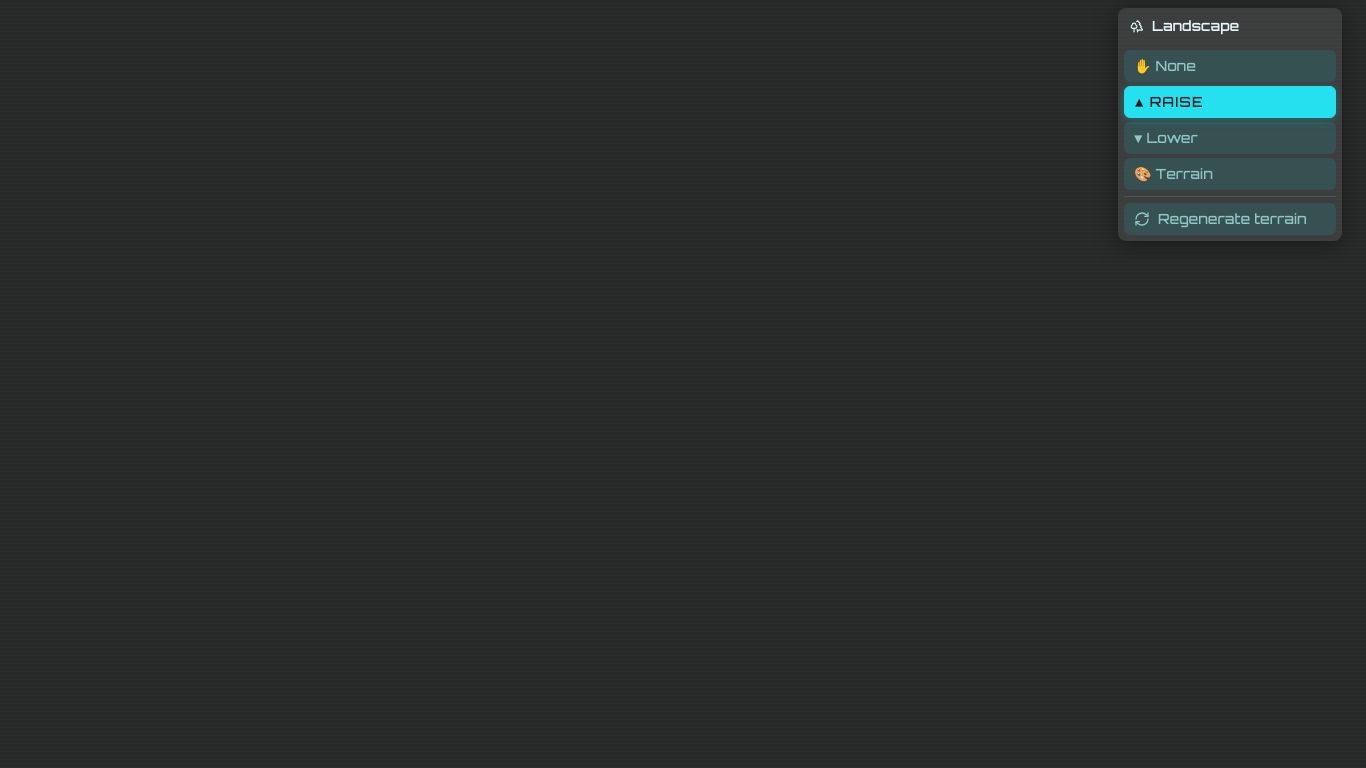
Test case: EditorPanel (LandscapeEditor replacement) › renders regenerate terrain button in floating view and handles errors in popup
Click the button "Regenerate terrain" at (1230, 219), box [1124,203,1336,235]
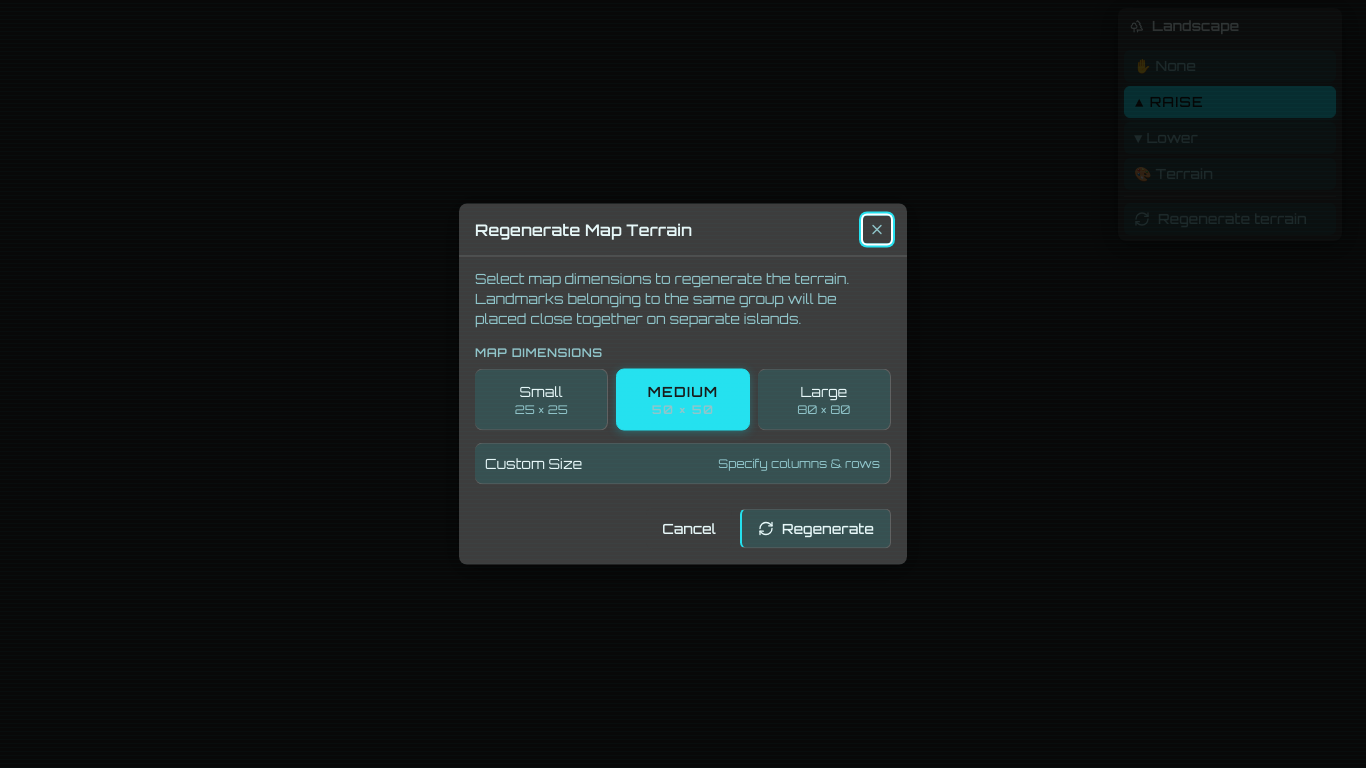
Check: the heading "Regenerate Map Terrain" is shown, box [475,222,692,238]
Click the button "Regenerate" at (815, 528), box [740,508,891,548]
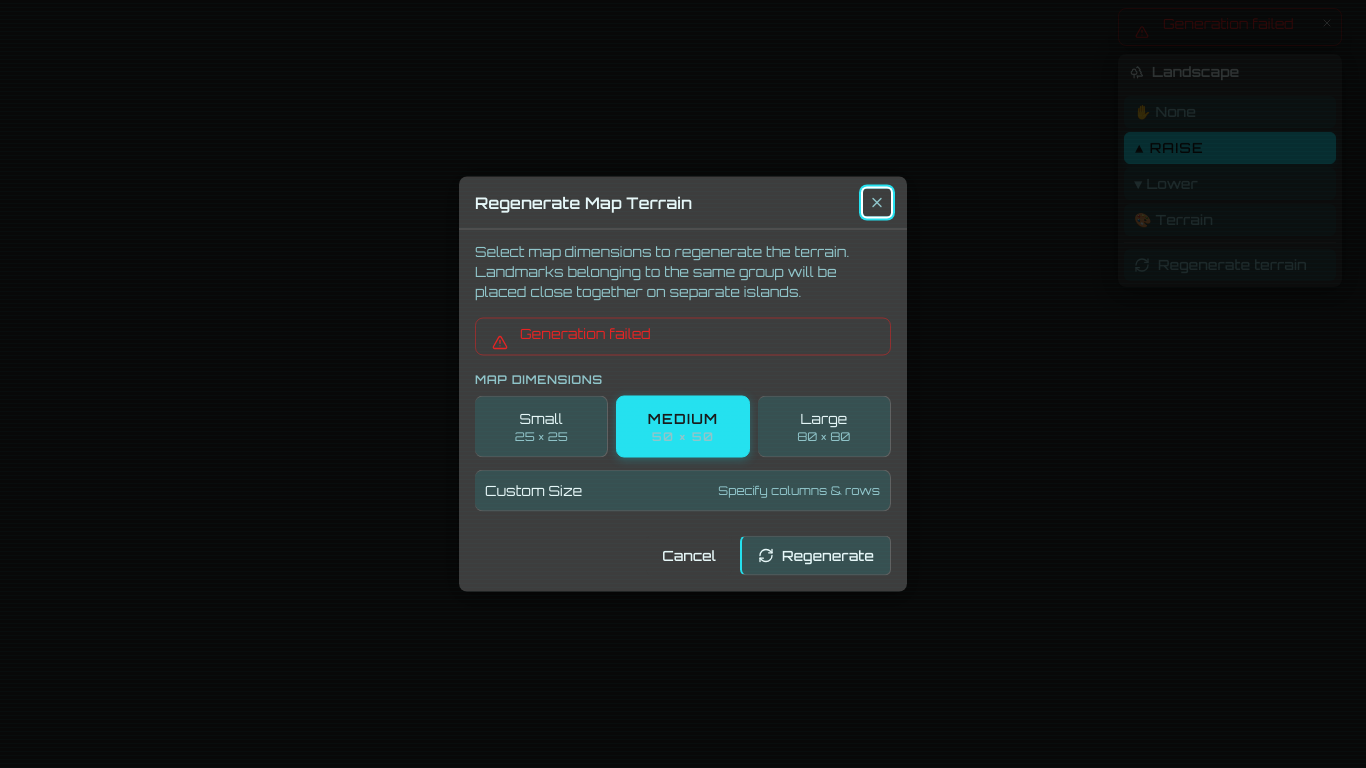
Check: the 1st text "Generation failed" is shown, box [1163,15,1294,32]
